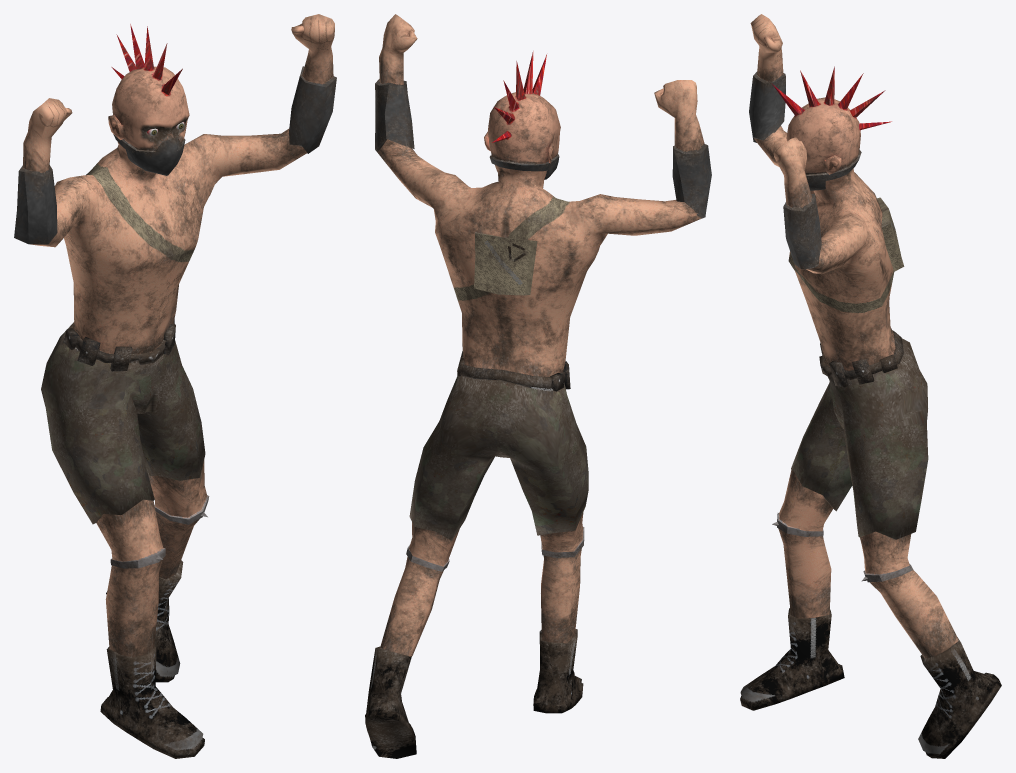
File: Anim_ganar_1_npc2.0024.obj
3 views of the same model, side by side, from view 1: azimuth 30°, elevation 25°; view 2: azimuth 150°, elevation 25°; view 3: azimuth 270°, elevation 25° (orthographic). The views are drawn at different scales.
Parts seen in each view (by area): view 1: polySurface1; view 2: polySurface1; view 3: polySurface1.
Boxes of the visible parts, <box> form: polySurface1: <box>14,14,336,758</box>; polySurface1: <box>365,14,711,758</box>; polySurface1: <box>740,14,1001,758</box>.
Size of the model in its own units: 5.07 by 10.41 by 3.75.
Materials: 2 (2 with a texture image).
